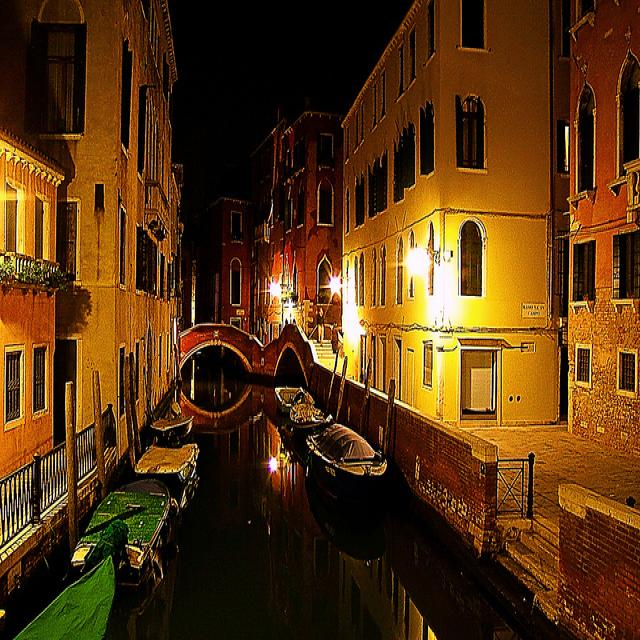Boat: (78, 474, 180, 576), (298, 419, 393, 503), (134, 432, 204, 503), (149, 387, 193, 446)
